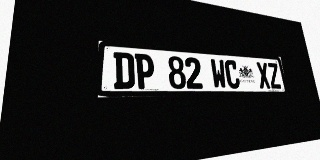2: (184, 57, 203, 89)
8: (167, 56, 187, 89)
C: (224, 60, 241, 89)
D: (113, 52, 135, 89)
P: (135, 53, 155, 89)
W: (210, 59, 227, 89)
X: (256, 62, 271, 89)
Z: (267, 63, 282, 89)
